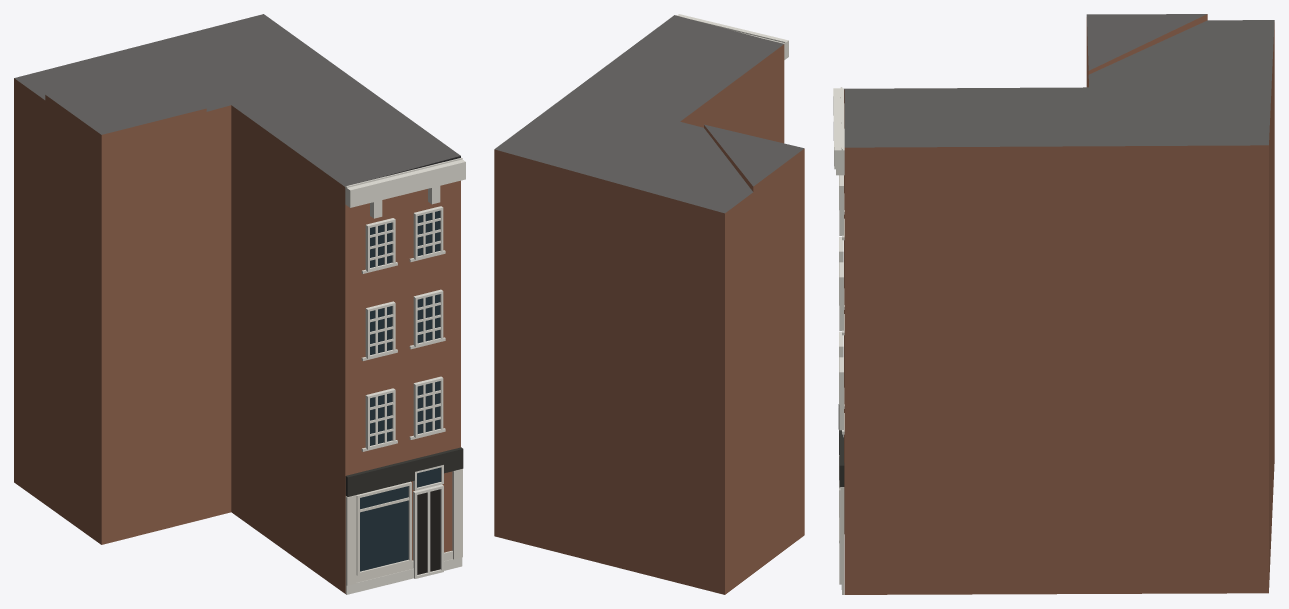
3 renders of one model, left to right at view 1: azimuth 30°, elevation 25°; view 2: azimuth 150°, elevation 25°; view 3: azimuth 270°, elevation 25°, orthographic. The views are drawn at different scales.
Parts seen in each view (by area): view 1: spec-0363100012171705; view 2: spec-0363100012171705; view 3: spec-0363100012171705.
Part boxes in pixels (x1=…): spec-0363100012171705: x1=14, y1=14, x2=465, y2=594; spec-0363100012171705: x1=494, y1=14, x2=804, y2=594; spec-0363100012171705: x1=833, y1=14, x2=1274, y2=594.
Bounding box in the file's own units: 8.21 × 12.85 × 11.47.
